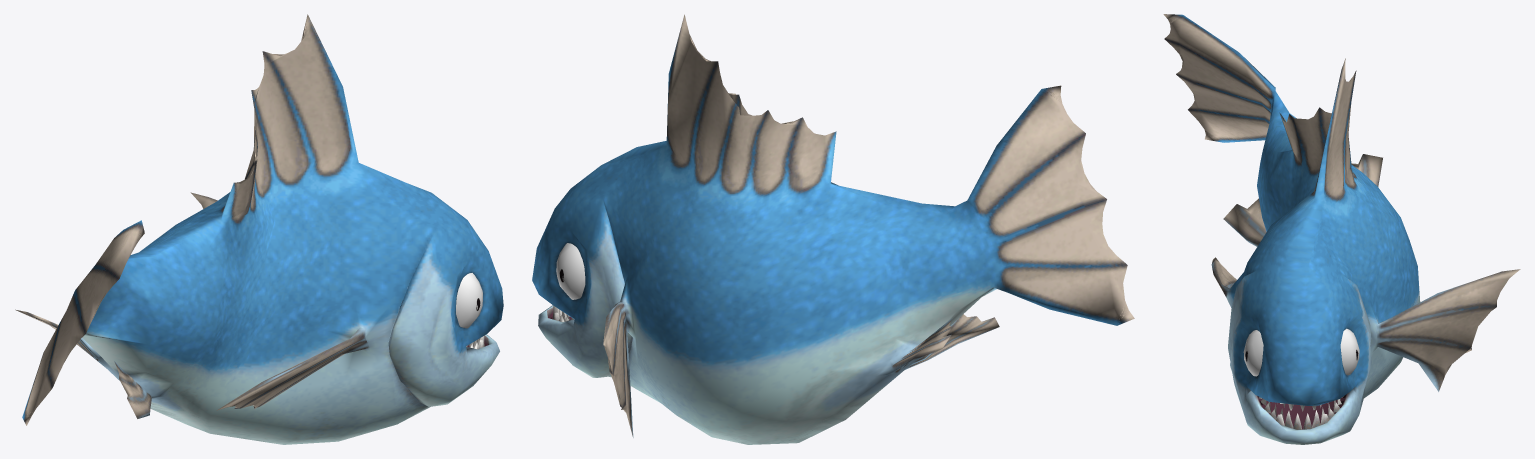
Rendered from plushpiranha.fbx.
3 views of the same model, side by side, from view 1: azimuth 30°, elevation 25°; view 2: azimuth 150°, elevation 25°; view 3: azimuth 270°, elevation 25° (orthographic). The views are drawn at different scales.
Parts seen in each view (by area): view 1: 7_0002-Ani004p1c01_0.1_16_16; view 2: 7_0002-Ani004p1c01_0.1_16_16; view 3: 7_0002-Ani004p1c01_0.1_16_16.
Part boxes in pixels (<box>): 7_0002-Ani004p1c01_0.1_16_16: <box>15,14,503,444</box>; 7_0002-Ani004p1c01_0.1_16_16: <box>532,14,1134,444</box>; 7_0002-Ani004p1c01_0.1_16_16: <box>1163,14,1520,444</box>.
Size of the model in its own units: 0.6317 by 0.4669 by 0.4175.
